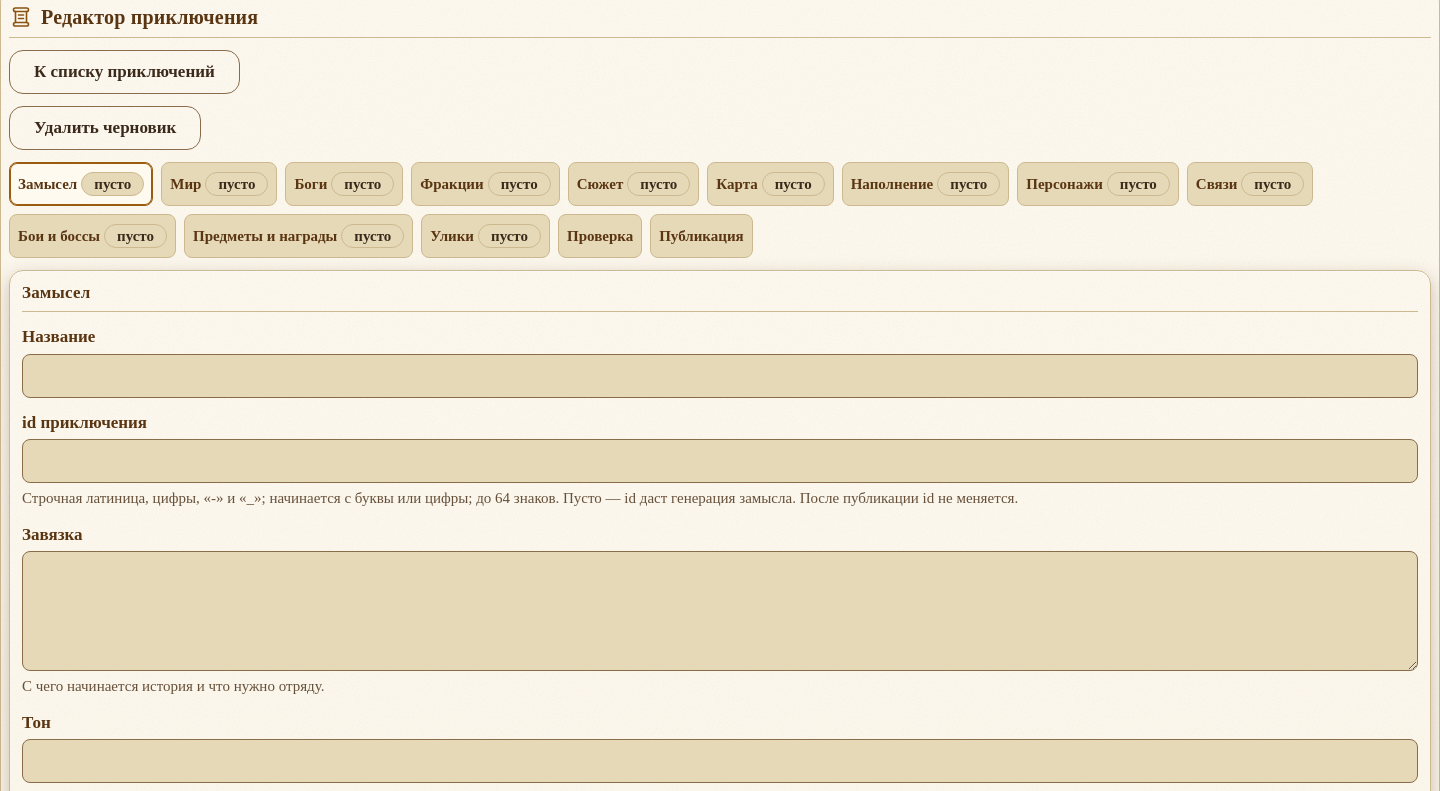
Test: шаг «Замысел» › ручной Замысел без id после «Сохранить раздел» — «черновик», id уходит пустым (null)
This screenshot has width=1440, height=791.
Expected: the button "Замысел пусто" is shown, [9,162,153,206]
Type "Маяк" into the field labelled "Название" at (720, 376), box [22,354,1418,398]
(page scrolled)
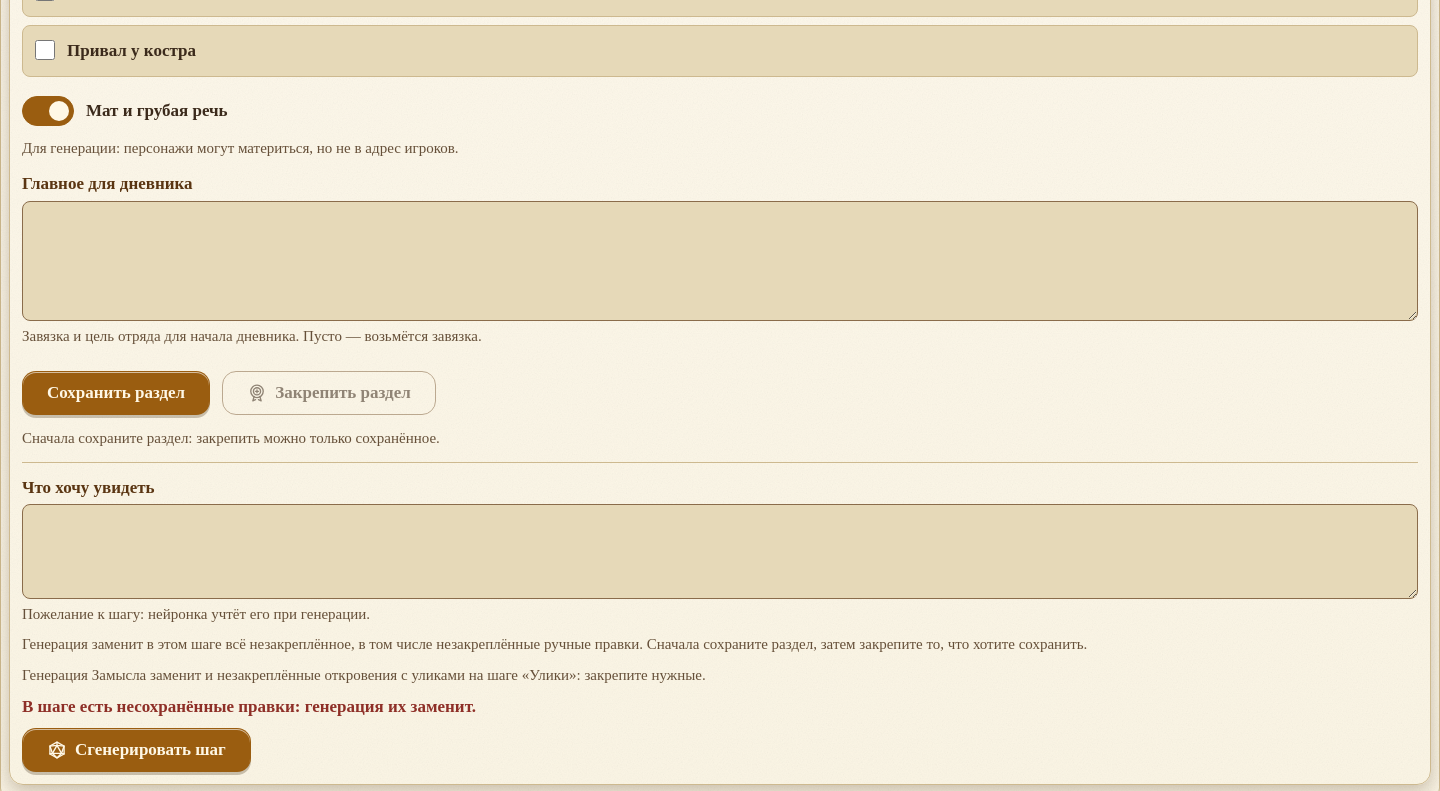
Click the button "Сохранить раздел" at (116, 393), box [22,371,210,415]
(page scrolled)
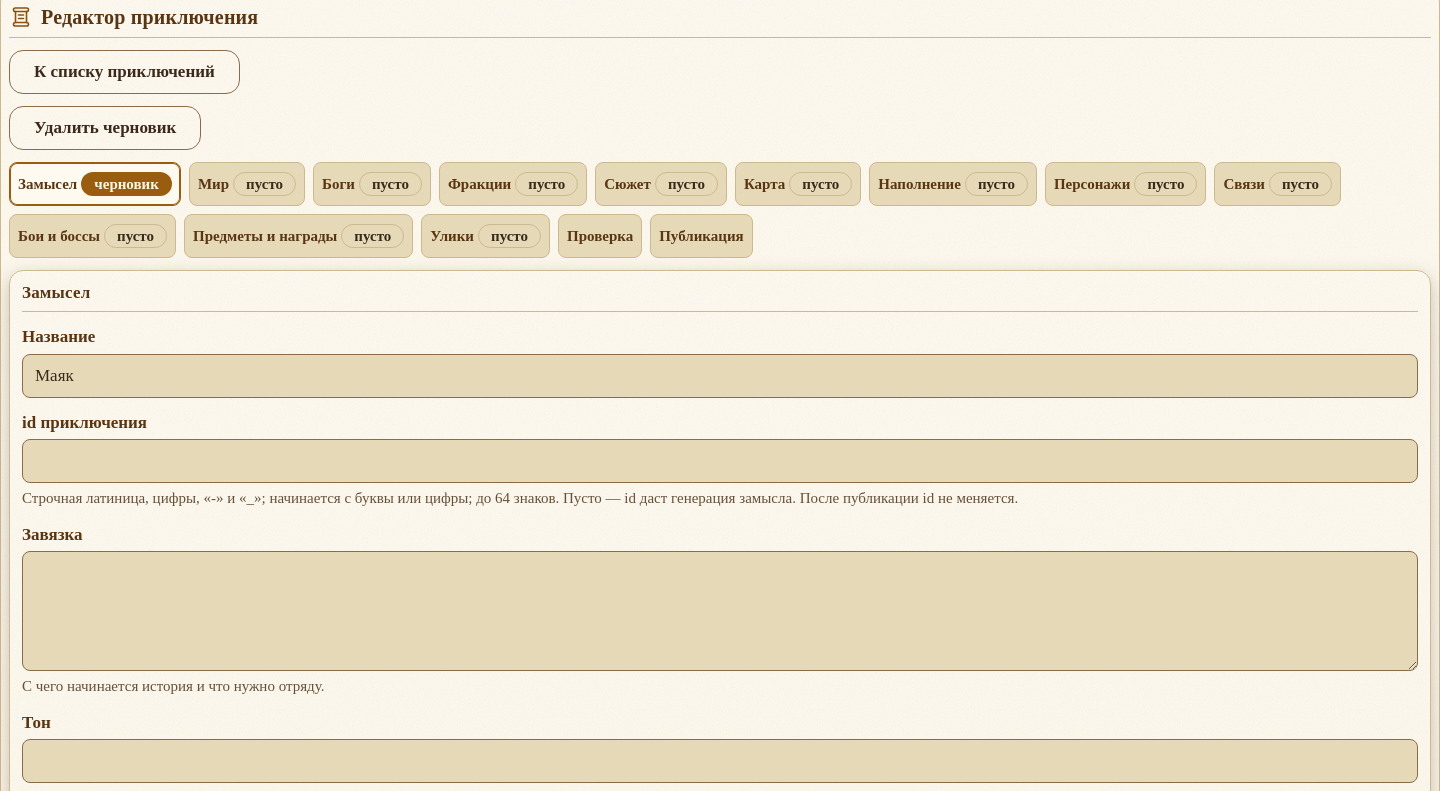
Now the button "Замысел черновик" is shown, box [9,162,181,206]
